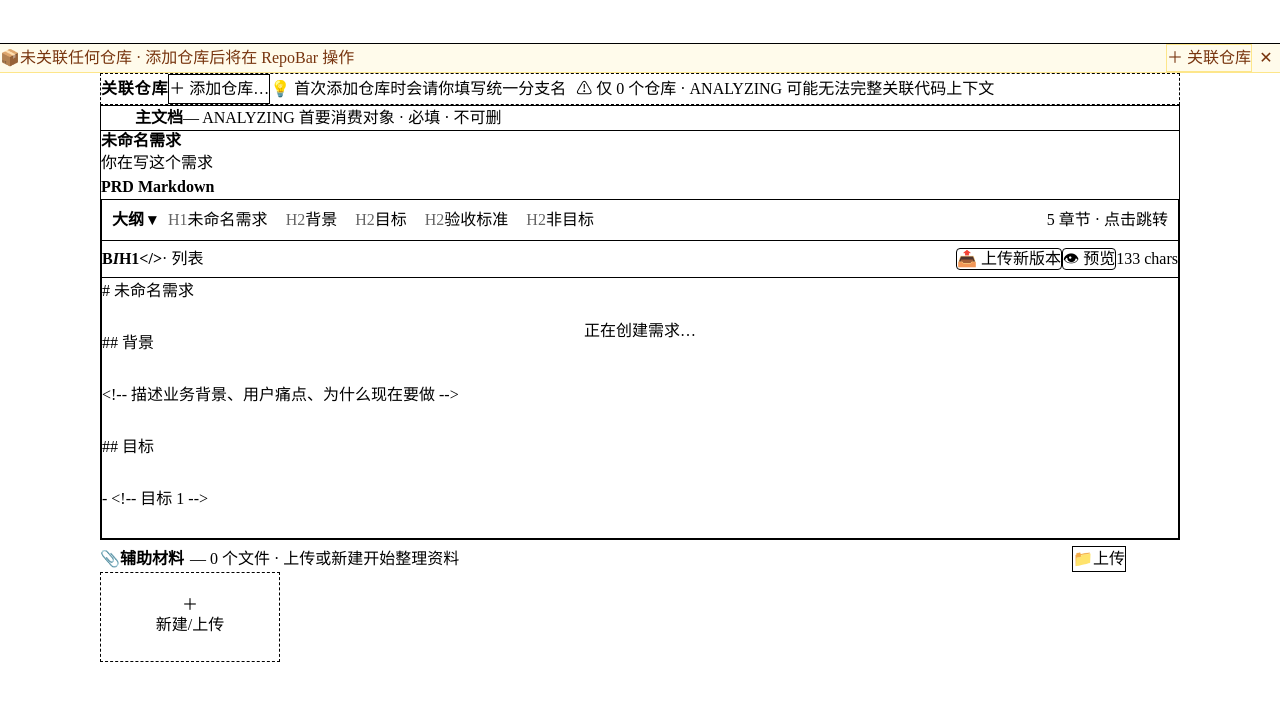
Test: DraftingZone · 辅助文件卡片 + 拖拽分割 (issue 04) › 空态点击占位卡 → 打开新建对话框(issue 06)
The width and height of the screenshot is (1280, 720).
Click the button with test id "aux-empty-placeholder" at {"x": 190, "y": 617}, box x1=100 y1=572 x2=280 y2=662
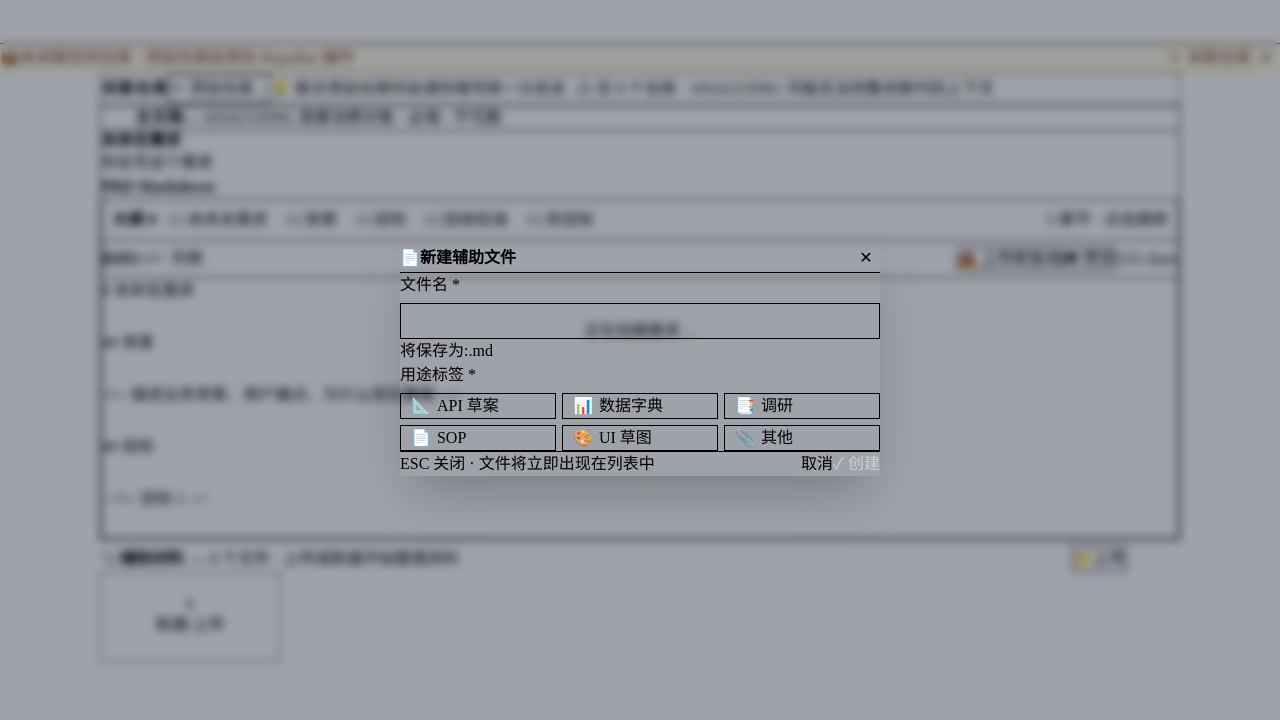
Check: the dialog with test id "new-aux-dialog" is shown, box x1=400 y1=244 x2=880 y2=476
